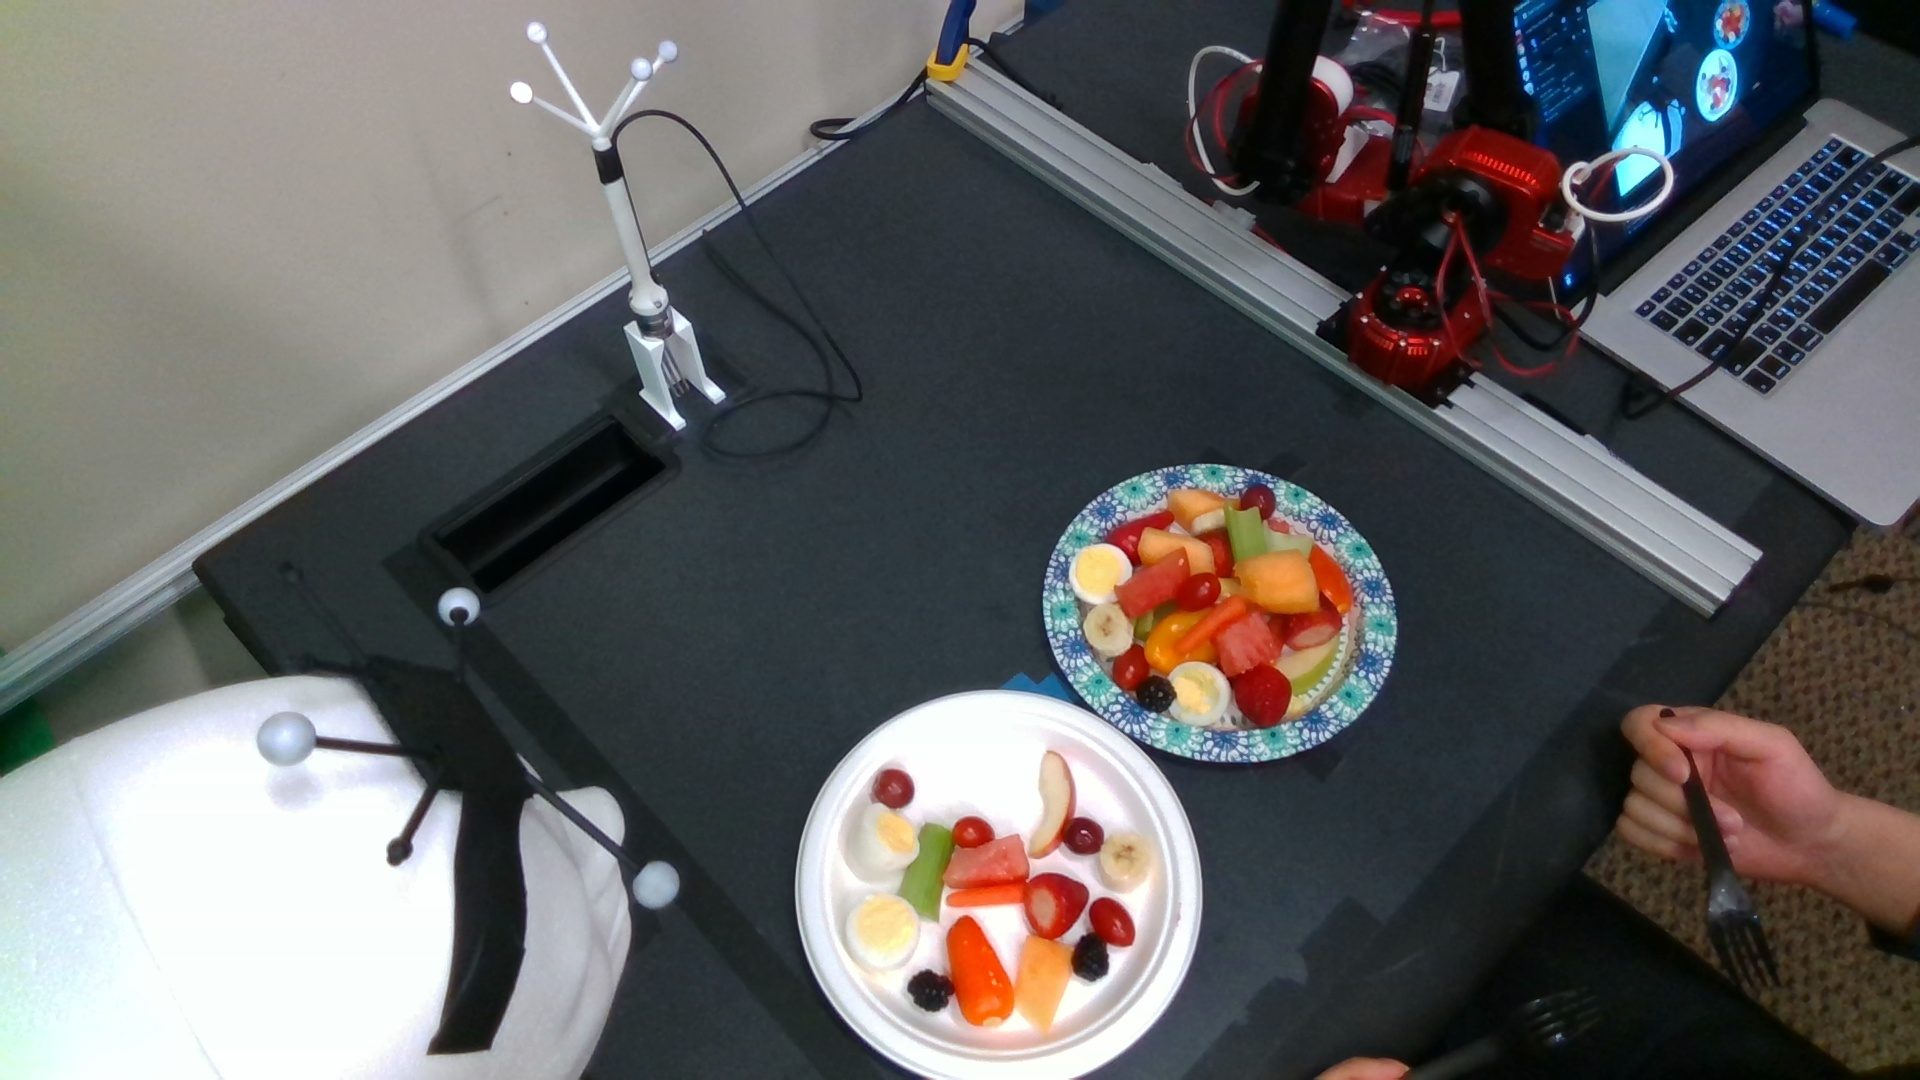apple: (1033, 750, 1072, 860)
banana: (1096, 829, 1153, 891), (1084, 601, 1134, 657)
bell pepper: (947, 913, 1015, 1030), (1309, 542, 1352, 618)
blackberry: (905, 971, 953, 1011), (1073, 932, 1110, 981), (1135, 673, 1175, 712)
cantalope: (1014, 930, 1073, 1035), (1237, 549, 1319, 613), (1138, 527, 1212, 564), (1166, 485, 1230, 521)
carrot: (1174, 600, 1251, 651), (945, 885, 1034, 905)
celery: (906, 819, 951, 926), (1226, 505, 1265, 563)
cherry tomato: (1089, 897, 1135, 949), (1113, 641, 1149, 688), (1176, 572, 1221, 608), (951, 818, 996, 849)
egg: (844, 800, 918, 882), (844, 894, 923, 967), (1166, 659, 1232, 728), (1065, 545, 1135, 603)
grape: (870, 769, 918, 804), (1065, 818, 1104, 852), (1244, 483, 1276, 520)
melon: (945, 837, 1030, 887), (1121, 559, 1191, 615), (1216, 615, 1276, 673)
plate: (789, 691, 1203, 1080), (1043, 459, 1400, 764)
strawberry: (1023, 873, 1091, 939), (1237, 659, 1291, 727)
